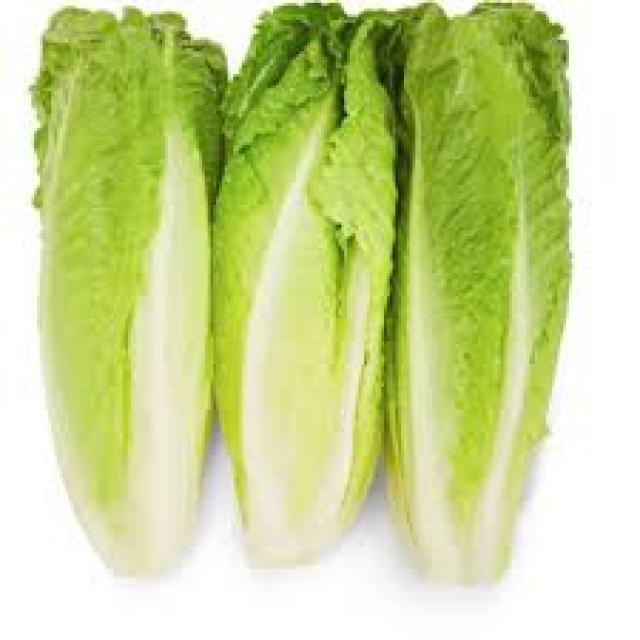Lettuce: (27, 8, 215, 585), (384, 2, 568, 583), (230, 3, 385, 580)
